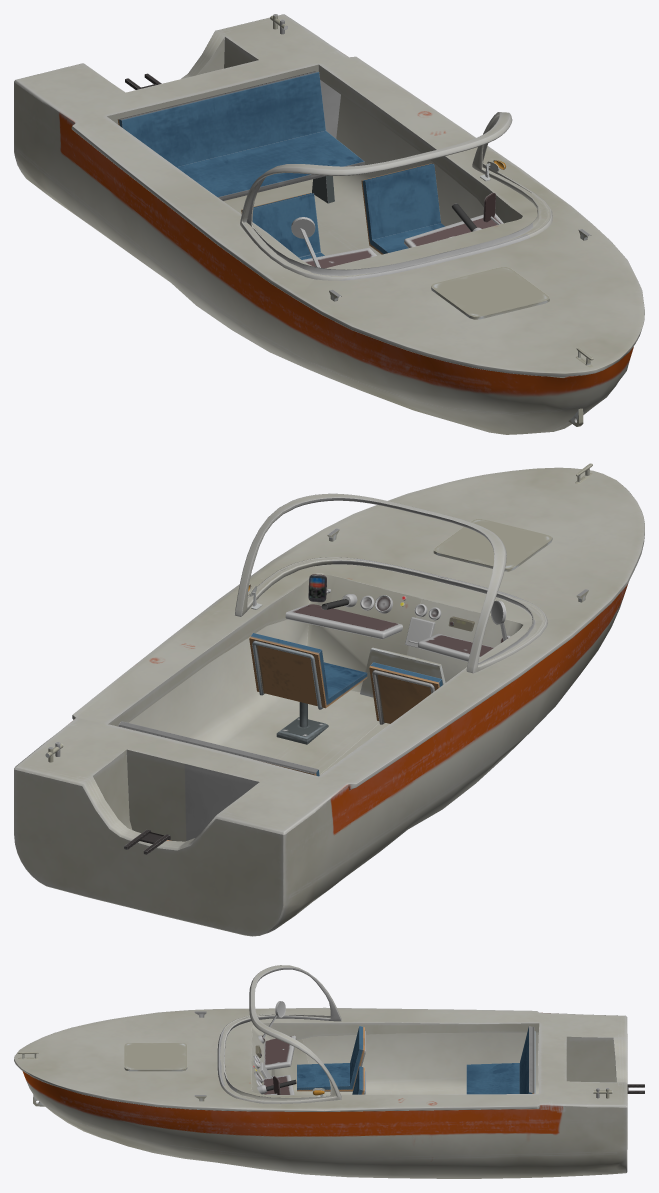
The model's file is MotorBoat.obj.
The picture shows the model from 3 angles, top to bottom: view 1: azimuth 30°, elevation 25°; view 2: azimuth 150°, elevation 25°; view 3: azimuth 270°, elevation 25°; orthographic projection. The views are drawn at different scales.
Visible parts, largest first — view 1: Boat; view 2: Boat; view 3: Boat.
Boxes of the visible parts, x1,y1,x2,y2 form: Boat: (14, 14, 644, 434); Boat: (14, 463, 644, 936); Boat: (14, 965, 644, 1178).
Size of the model in its own units: 1.74 by 1.3 by 4.56.
1 material, 1 textured.
